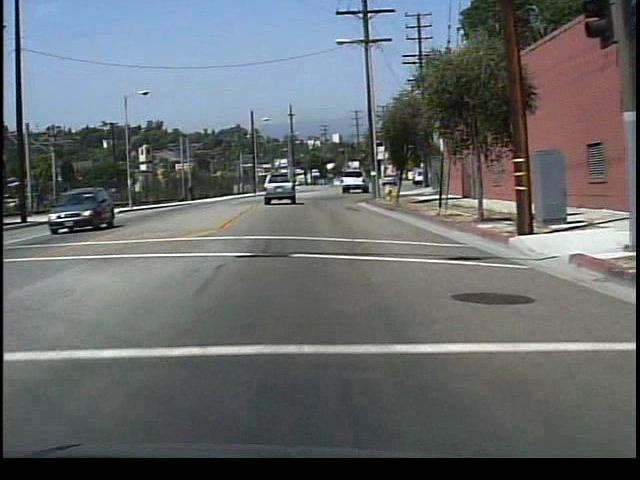person: (188, 180, 204, 204)
